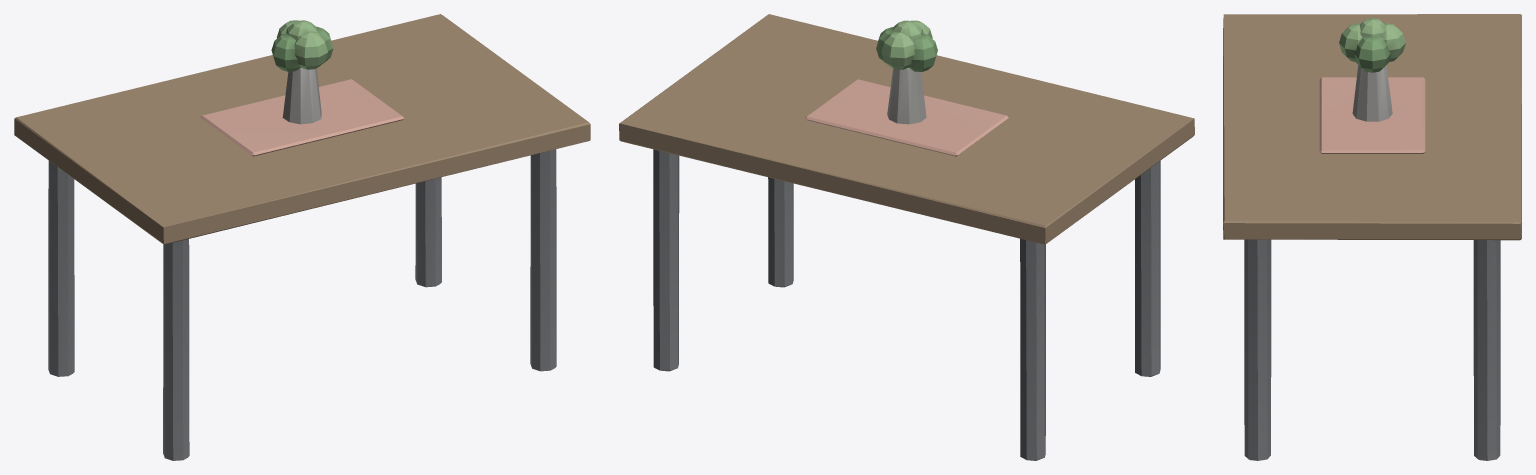
Rendered from furn_dining_table__walnut_low.glb.
3 views of the same model, side by side, from view 1: azimuth 30°, elevation 25°; view 2: azimuth 150°, elevation 25°; view 3: azimuth 270°, elevation 25° (orthographic).
Bounding box in the file's own units: 1.4 × 1.09 × 0.8468.
